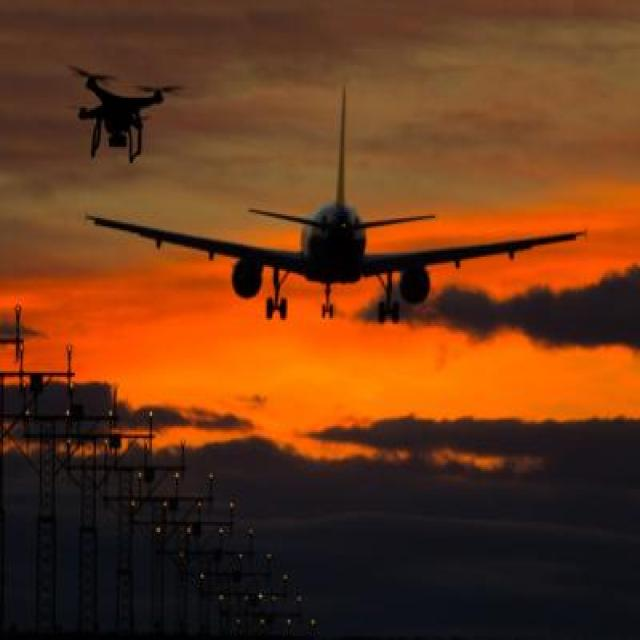drone: (66, 65, 182, 167)
